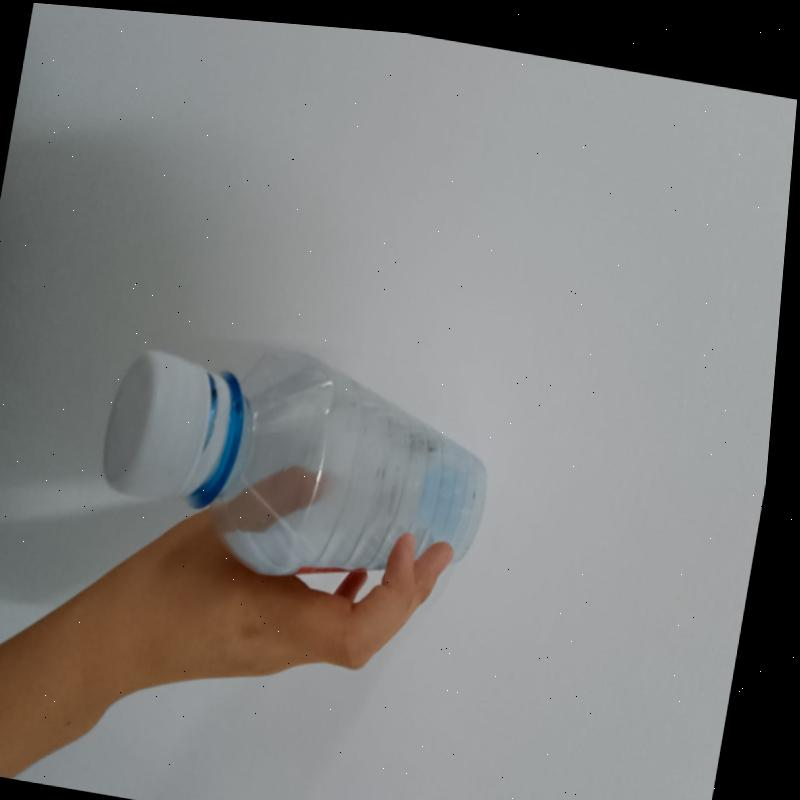botella: (86, 301, 521, 601)
